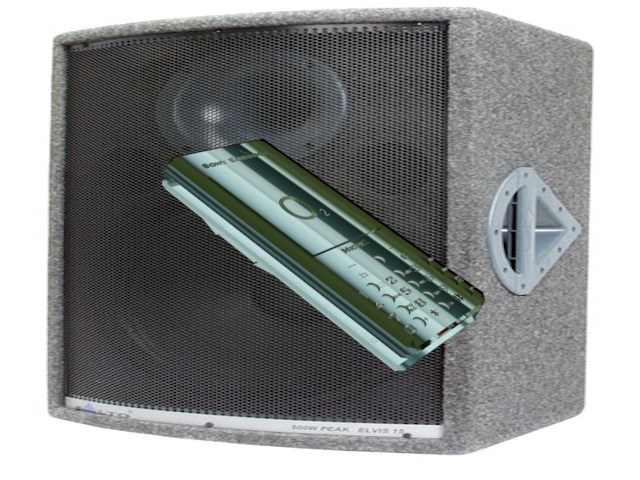mobile_phone: (160, 128, 496, 385)
